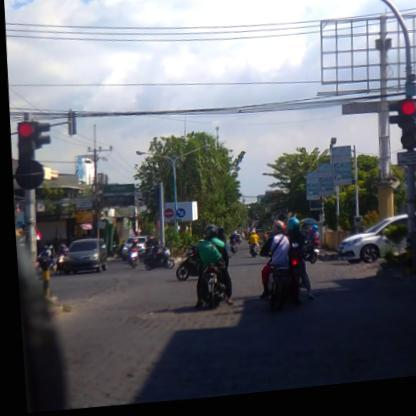red: (14, 120, 35, 171), (394, 108, 415, 158)
